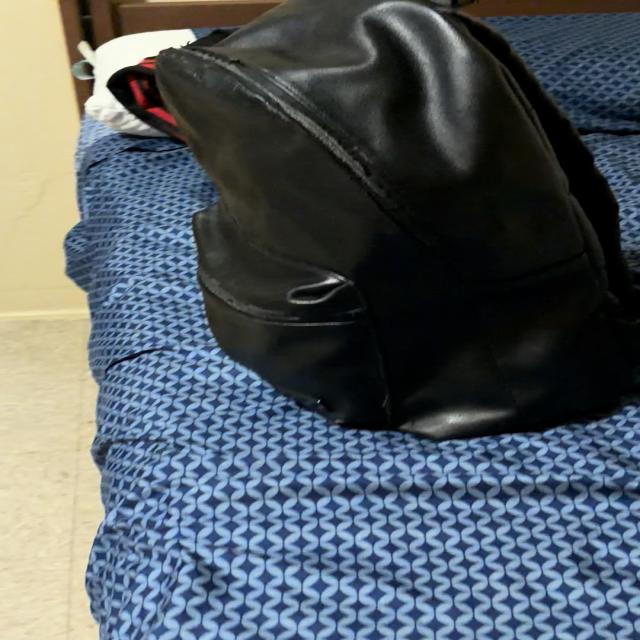backpack: (156, 0, 639, 438)
